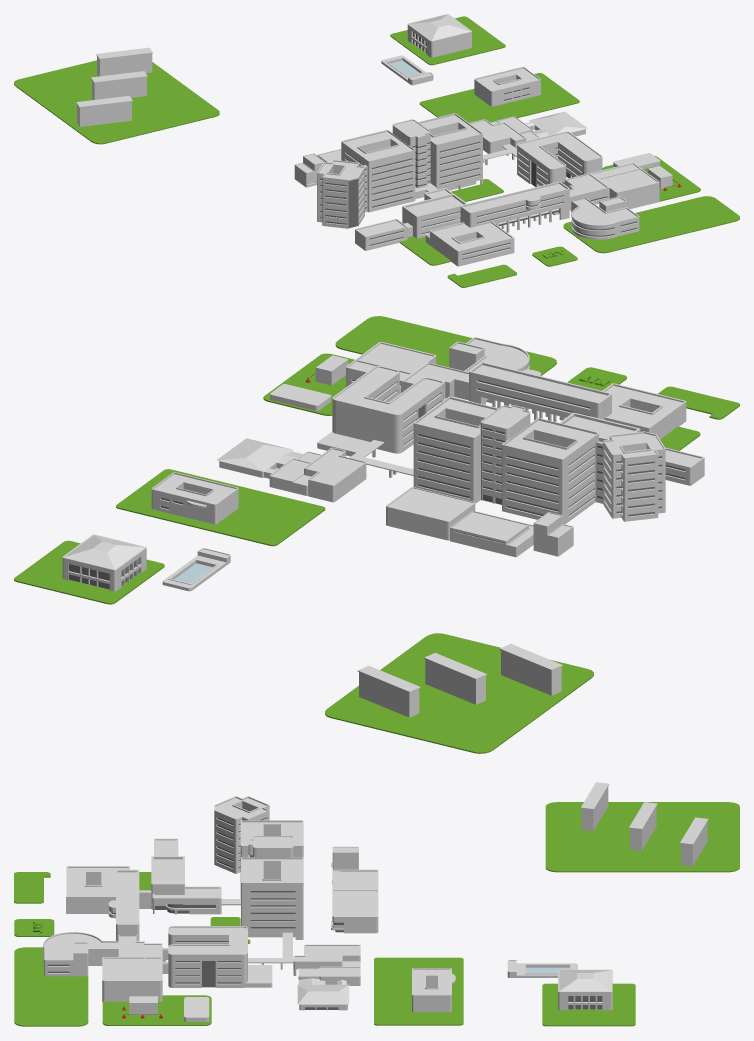
File: kyutech_map.glb
The picture shows the model from 3 angles, top to bottom: view 1: azimuth 30°, elevation 25°; view 2: azimuth 150°, elevation 25°; view 3: azimuth 270°, elevation 25°; orthographic projection. The views are drawn at different scales.
Visible parts, largest first — view 1: 平面.013, 研究棟西, 平面.011, 研究棟東, 講義棟, 平面.016, 総合研究棟, 共通教育研究棟, 研究管理棟, 図書館, 500人講義室, 課外活動共用施設 (+20 smaller); view 2: 平面.013, 研究棟西, 研究棟東, 講義棟, 平面.016, 総合研究棟, 共通教育研究棟, 平面.011, 課外活動共用施設, マイクロ化総合センター, 平面.018, 研究管理棟 (+23 smaller); view 3: 平面.013, 研究棟東, 講義棟, 平面.011, 平面.016, 平面.018, 図書館, 500人講義室, 総合研究棟, 研究管理棟, マイクロ化総合センター, 平面.012 (+24 smaller).
Part boxes in pixels (<box>): 平面.013: <box>14,60,219,144</box>; 研究棟西: <box>341,129,415,212</box>; 平面.011: <box>563,196,739,253</box>; 研究棟東: <box>418,113,482,190</box>; 講義棟: <box>517,131,602,186</box>; 平面.016: <box>419,73,579,122</box>; 総合研究棟: <box>317,160,364,228</box>; 共通教育研究棟: <box>460,181,569,227</box>; 研究管理棟: <box>425,221,514,266</box>; 図書館: <box>571,196,639,239</box>; 500人講義室: <box>590,163,659,208</box>; 課外活動共用施設: <box>474,67,540,106</box>; 平面.013: <box>325,633,593,753</box>; 研究棟西: <box>502,418,598,524</box>; 研究棟東: <box>413,396,498,503</box>; 講義棟: <box>332,366,443,453</box>; 平面.016: <box>116,469,325,546</box>; 総合研究棟: <box>603,431,665,521</box>; 共通教育研究棟: <box>469,362,611,419</box>; 平面.011: <box>335,316,556,375</box>; 課外活動共用施設: <box>151,472,238,524</box>; マイクロ化総合センター: <box>386,487,475,540</box>; 平面.018: <box>14,540,164,604</box>; 研究管理棟: <box>602,383,686,439</box>; 平面.013: <box>545,802,739,872</box>; 研究棟東: <box>241,857,303,939</box>; 講義棟: <box>168,926,247,987</box>; 平面.011: <box>14,947,88,1026</box>; 平面.016: <box>374,957,463,1025</box>; 平面.018: <box>542,983,635,1026</box>; 図書館: <box>43,932,118,976</box>; 500人講義室: <box>102,957,162,1001</box>; 総合研究棟: <box>214,796,269,873</box>; 研究管理棟: <box>66,866,129,913</box>; マイクロ化総合センター: <box>331,890,378,933</box>; 平面.012: <box>102,995,211,1025</box>.
Bounding box in the file's own units: 269 × 37.5 × 369.
